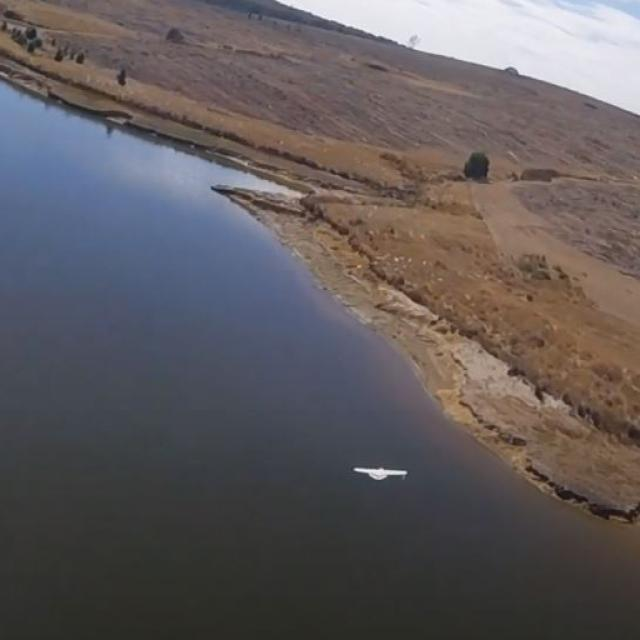iha: (351, 464, 409, 481)
